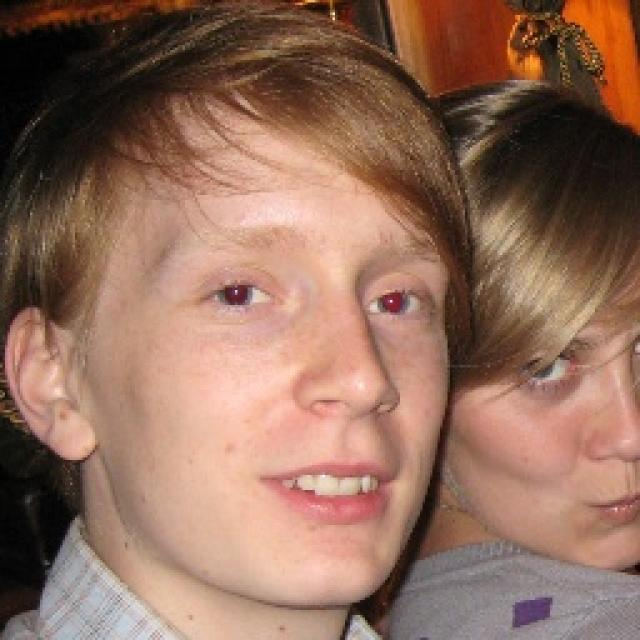earlobe: (48, 403, 98, 463)
eye: (197, 278, 281, 311), (510, 358, 579, 384), (366, 292, 428, 320)
nose: (302, 402, 398, 446), (590, 452, 640, 485)
wholeear: (4, 307, 98, 463)
